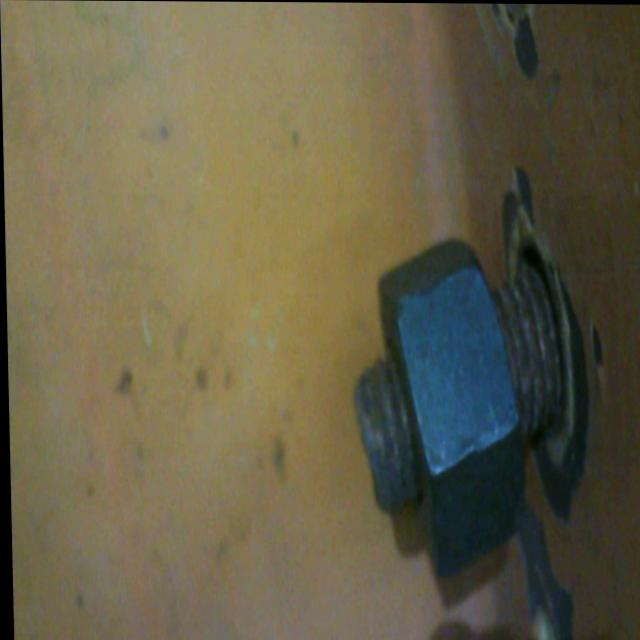Loose bolt: (335, 238, 551, 580)
Rusty bolt: (333, 231, 567, 567)
